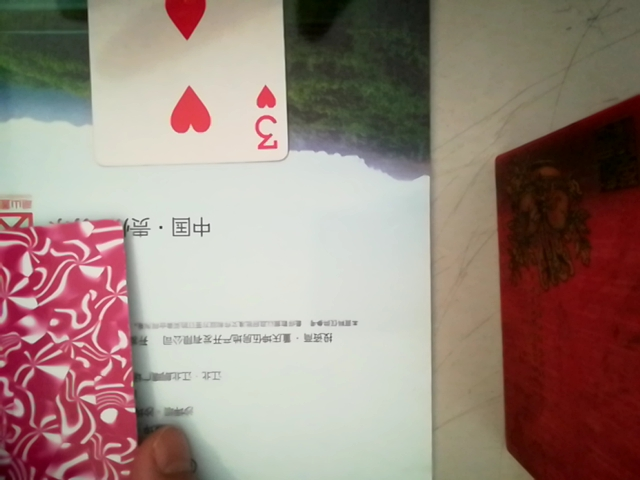hx 3: (76, 0, 292, 165)
